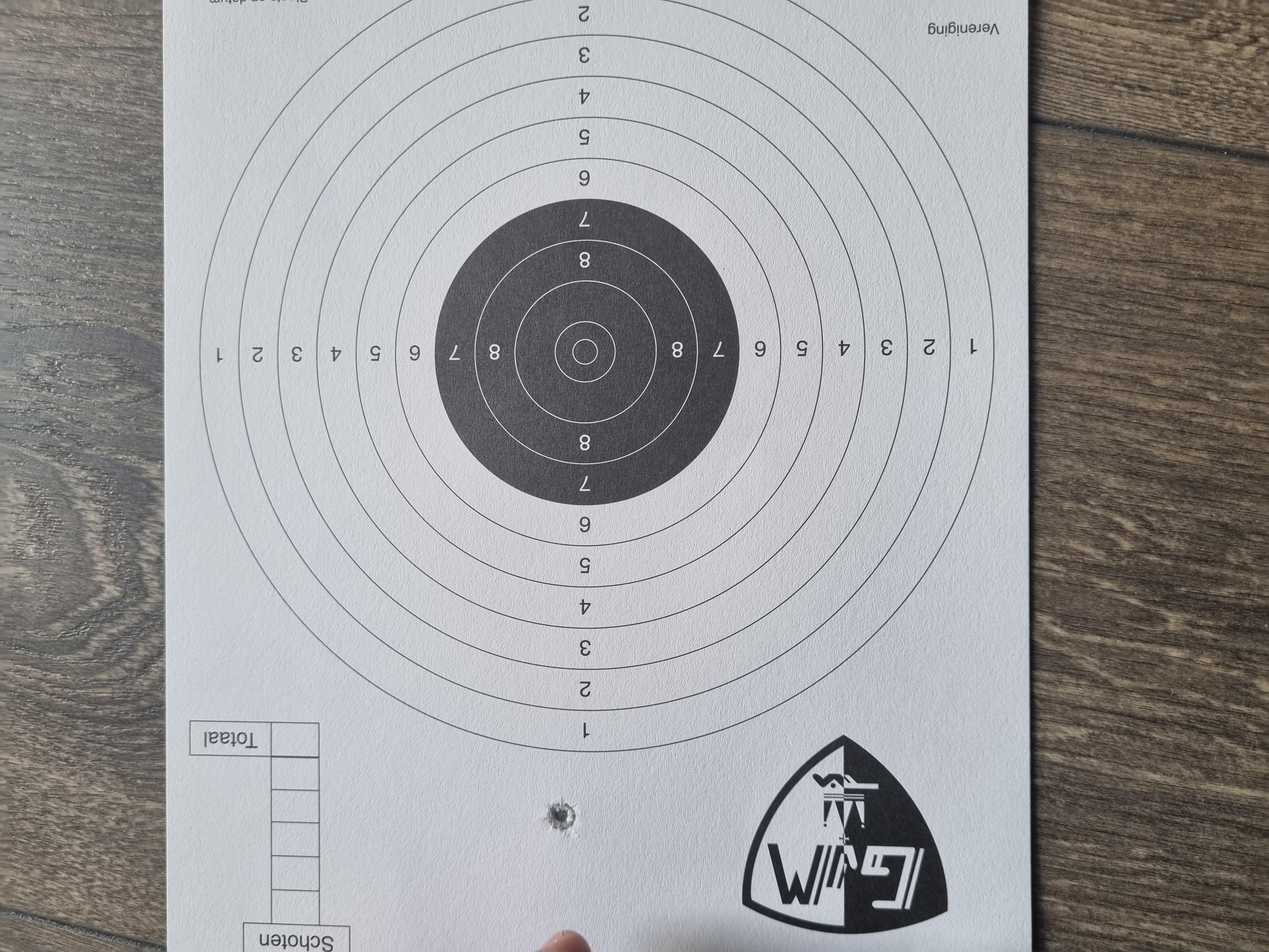hole: (159, 406, 203, 433)
